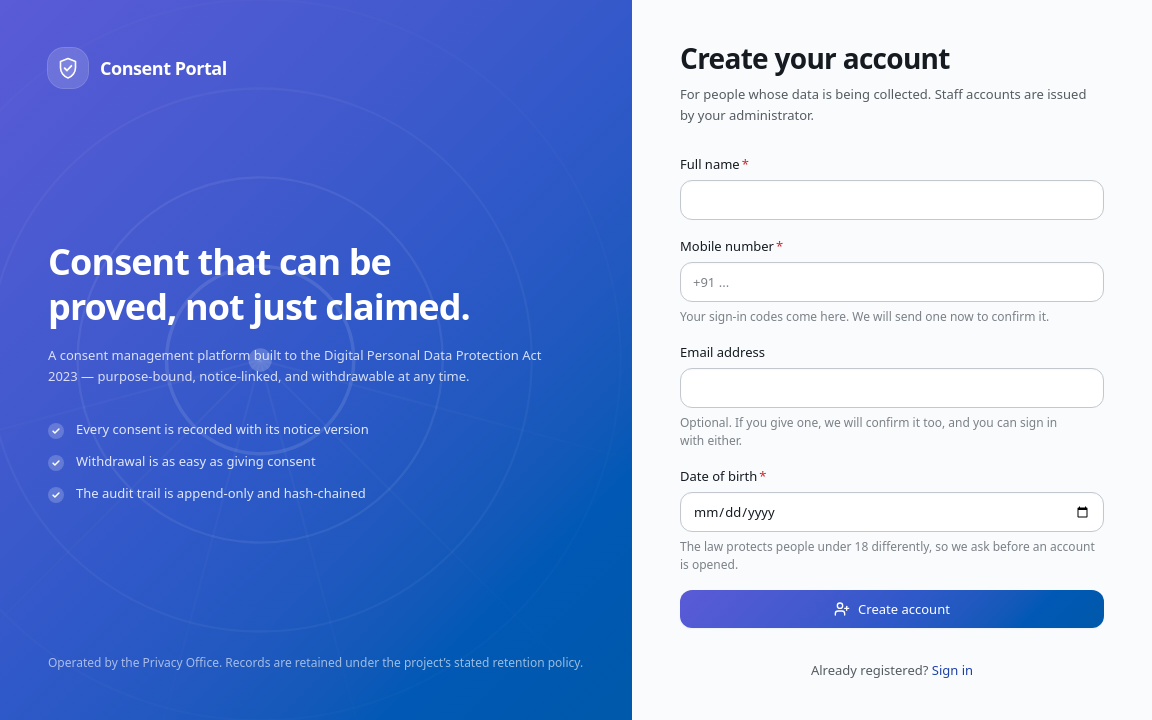
sign-up › puts the under-eighteen refusal on the date of birth, offering no guardian route
Type "Child Tester" into the field labelled "Full name*".
click(892, 200); type("Child Tester")  # box [680,180,1104,220]
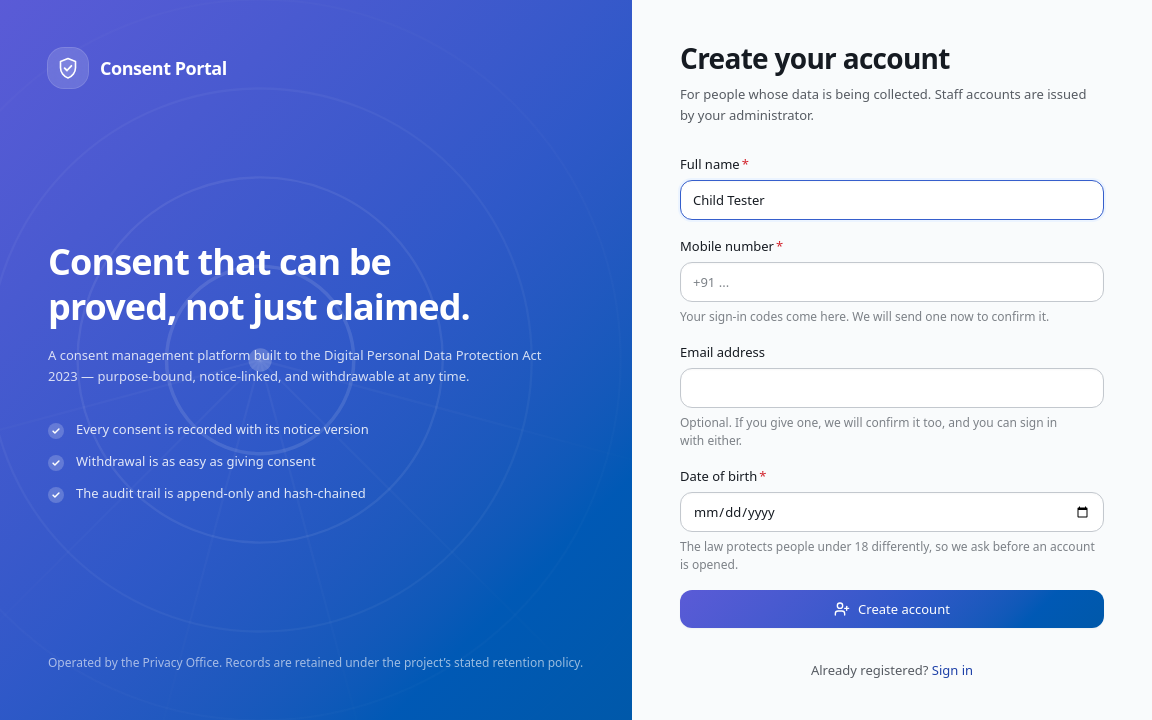
Type "+91 98707 00009" into the field labelled "Mobile number*".
click(892, 282); type("+91 98707 00009")  # box [680,262,1104,302]
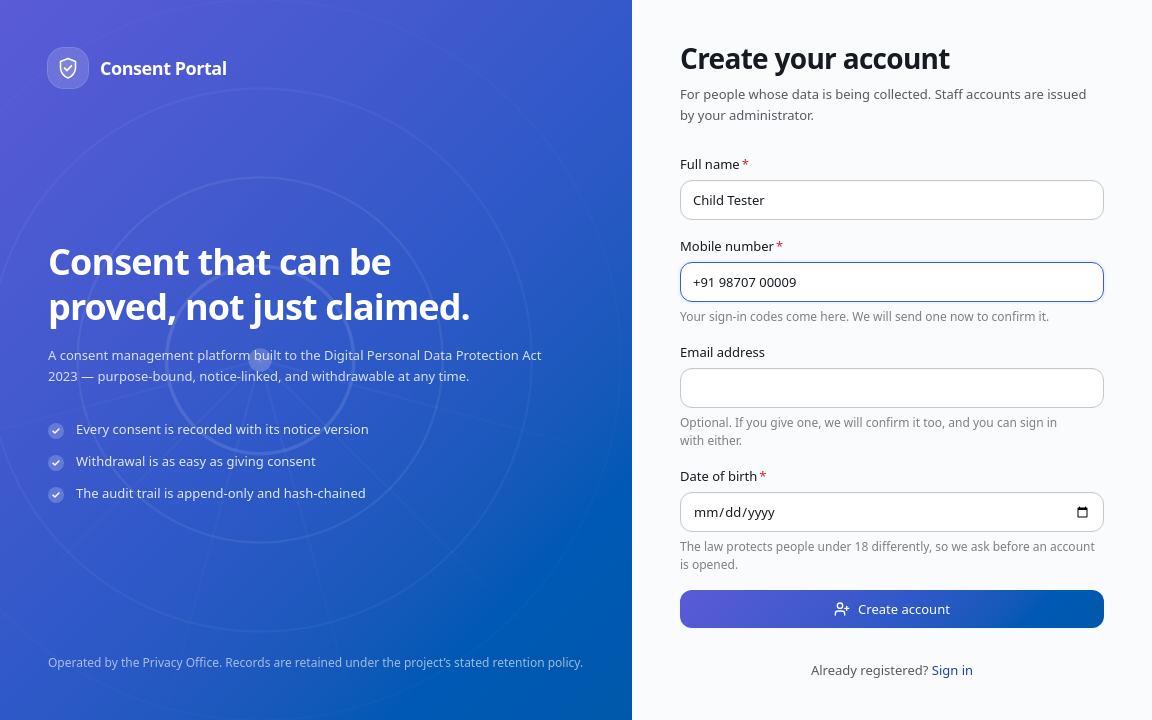
Type "2015-03-01" into the date field labelled "Date of birth*".
click(892, 512); type("2015-03-01")  # box [680,492,1104,532]
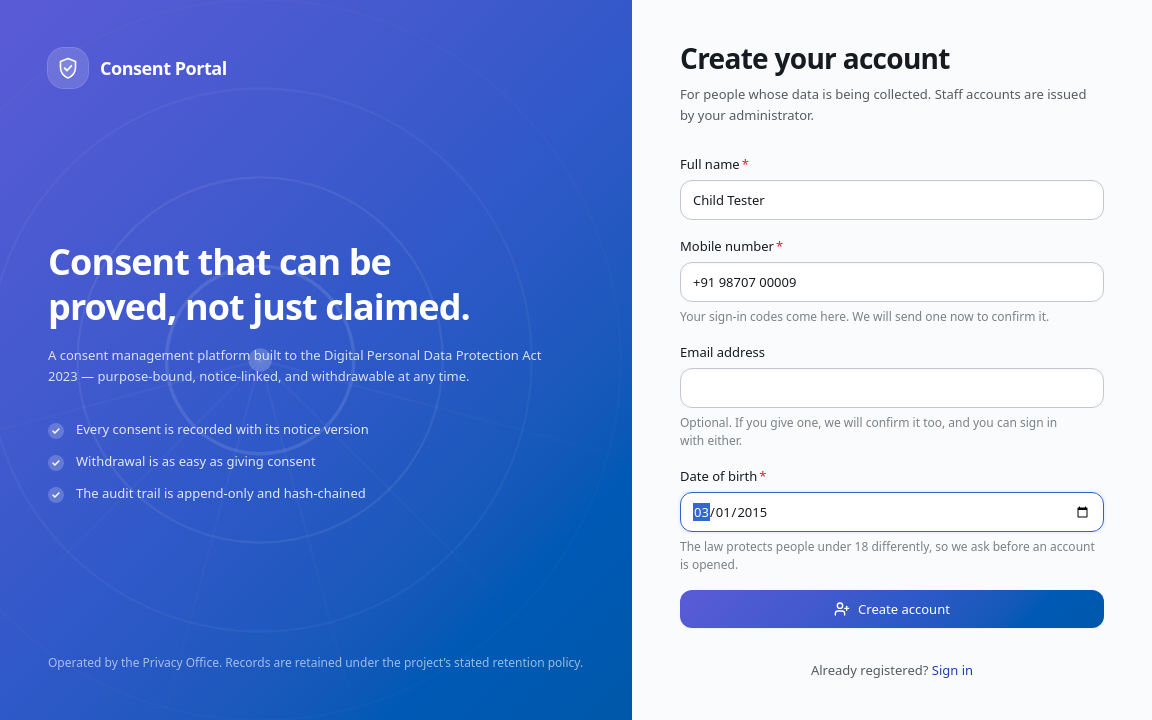
Click the button "Create account".
click(892, 609)  # box [680,590,1104,628]
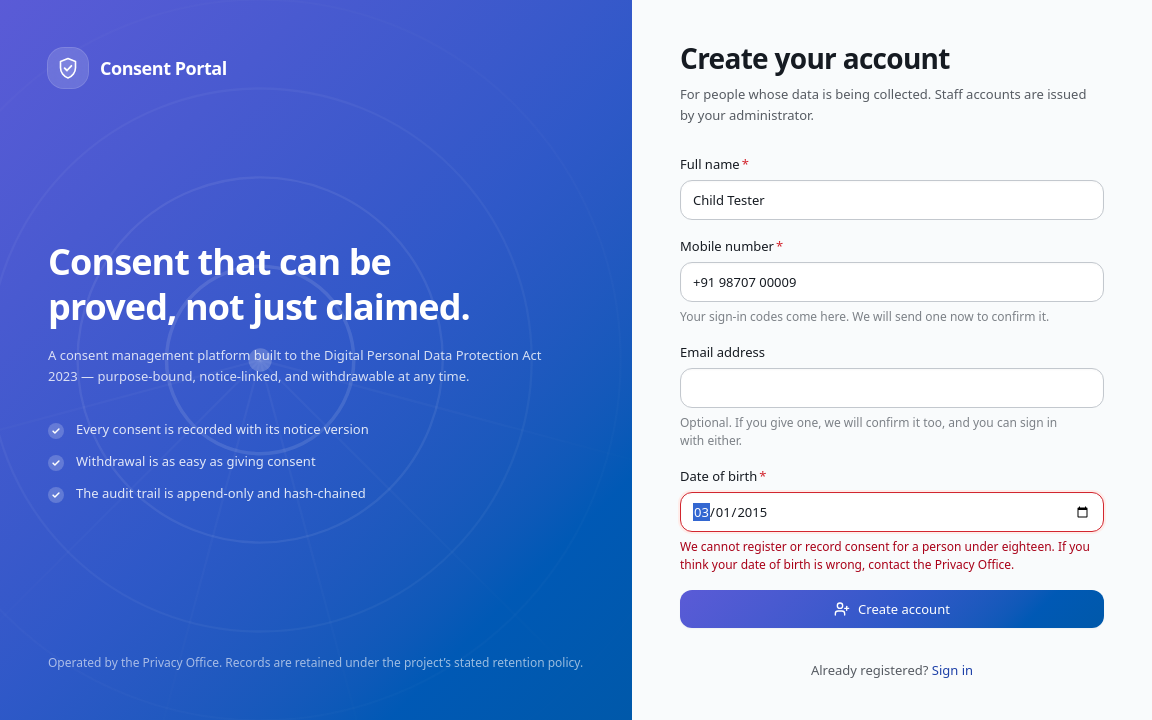
Check: the text "We cannot register or record consent for a person under eighteen. If you think your date of birth is wrong, contact the " is shown, box [680,538,1090,573]
